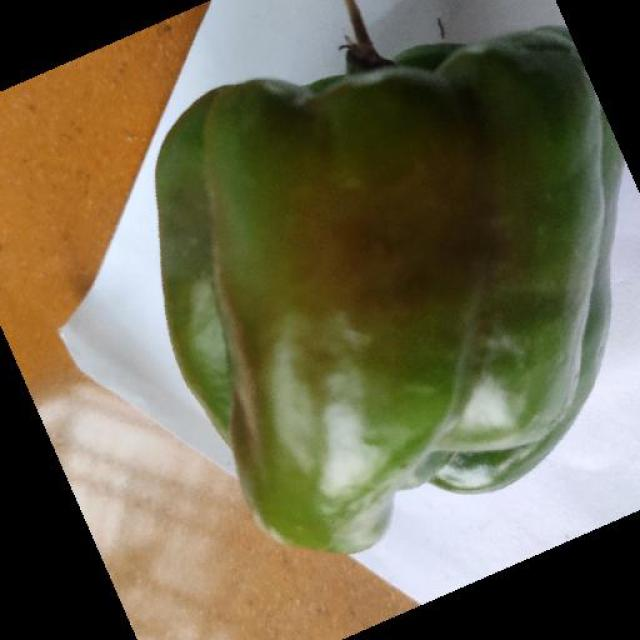Stale_Capsicum: (167, 81, 572, 516)
